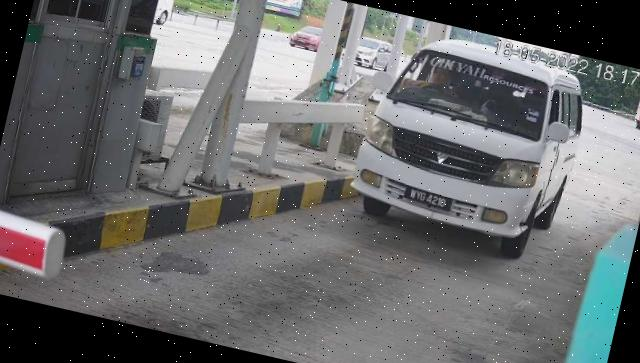License_Plate: (401, 186, 456, 216)
van: (342, 22, 596, 270)
